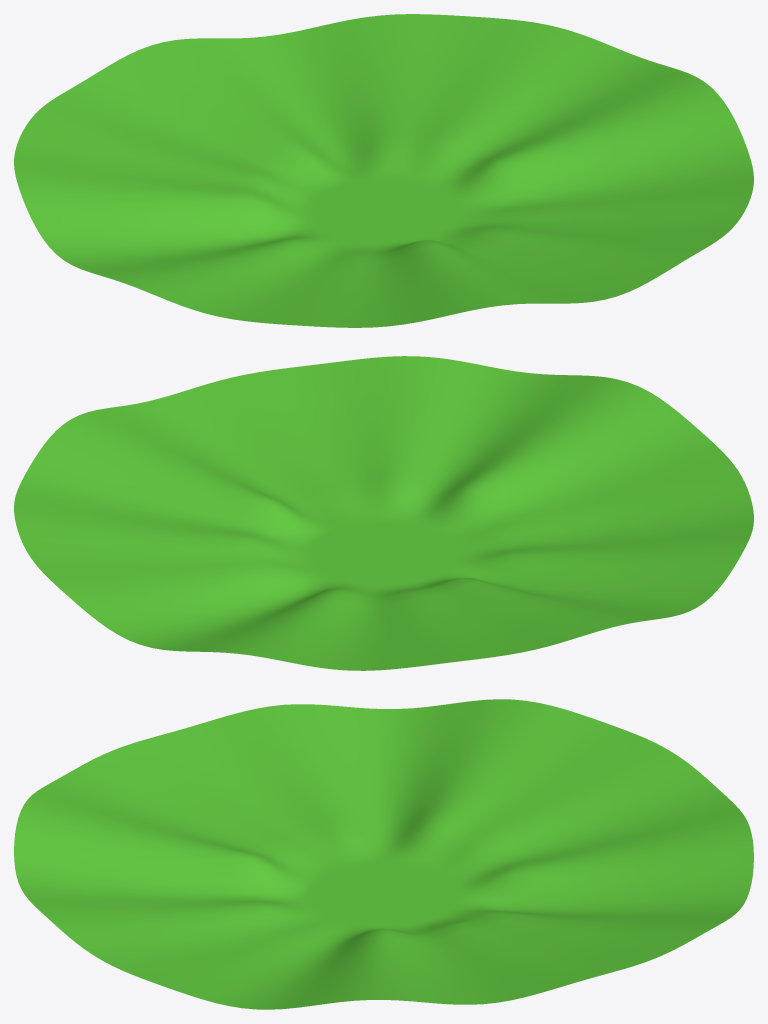
Rendered from meadow.glb.
3 renders of one model, top to bottom at view 1: azimuth 30°, elevation 25°; view 2: azimuth 150°, elevation 25°; view 3: azimuth 270°, elevation 25°, orthographic.
Parts seen in each view (by area): view 1: Meadow; view 2: Meadow; view 3: Meadow.
Part boxes in pixels (<box>): Meadow: <box>14,14,753,327</box>; Meadow: <box>14,356,753,670</box>; Meadow: <box>14,699,753,1009</box>.
Bounding box in the file's own units: 700 × 58.68 × 700.
